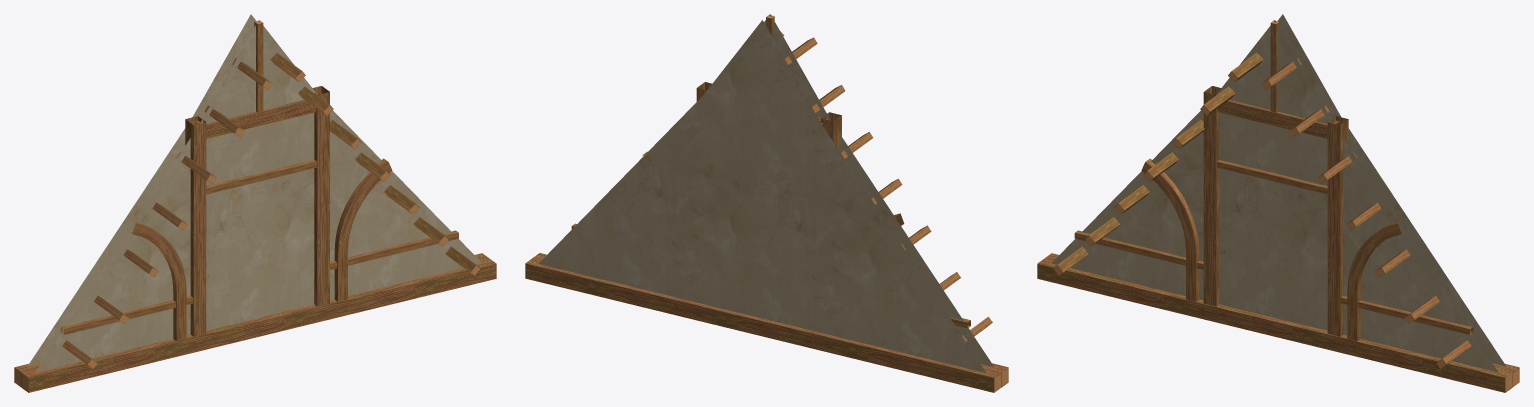
File: Roof_Front_Brick8.gltf
3 views of the same model, side by side, from view 1: azimuth 30°, elevation 25°; view 2: azimuth 150°, elevation 25°; view 3: azimuth 330°, elevation 25° (orthographic).
Visible parts, largest first — view 1: Roof_Front_Brick8; view 2: Roof_Front_Brick8; view 3: Roof_Front_Brick8.
Part boxes in pixels (<box>): Roof_Front_Brick8: <box>14,14,496,392</box>; Roof_Front_Brick8: <box>525,14,1008,392</box>; Roof_Front_Brick8: <box>1037,14,1519,392</box>.
Bounding box in the file's own units: 8.51 × 5.45 × 1.13.
Materials: 2 (2 with a texture image).
